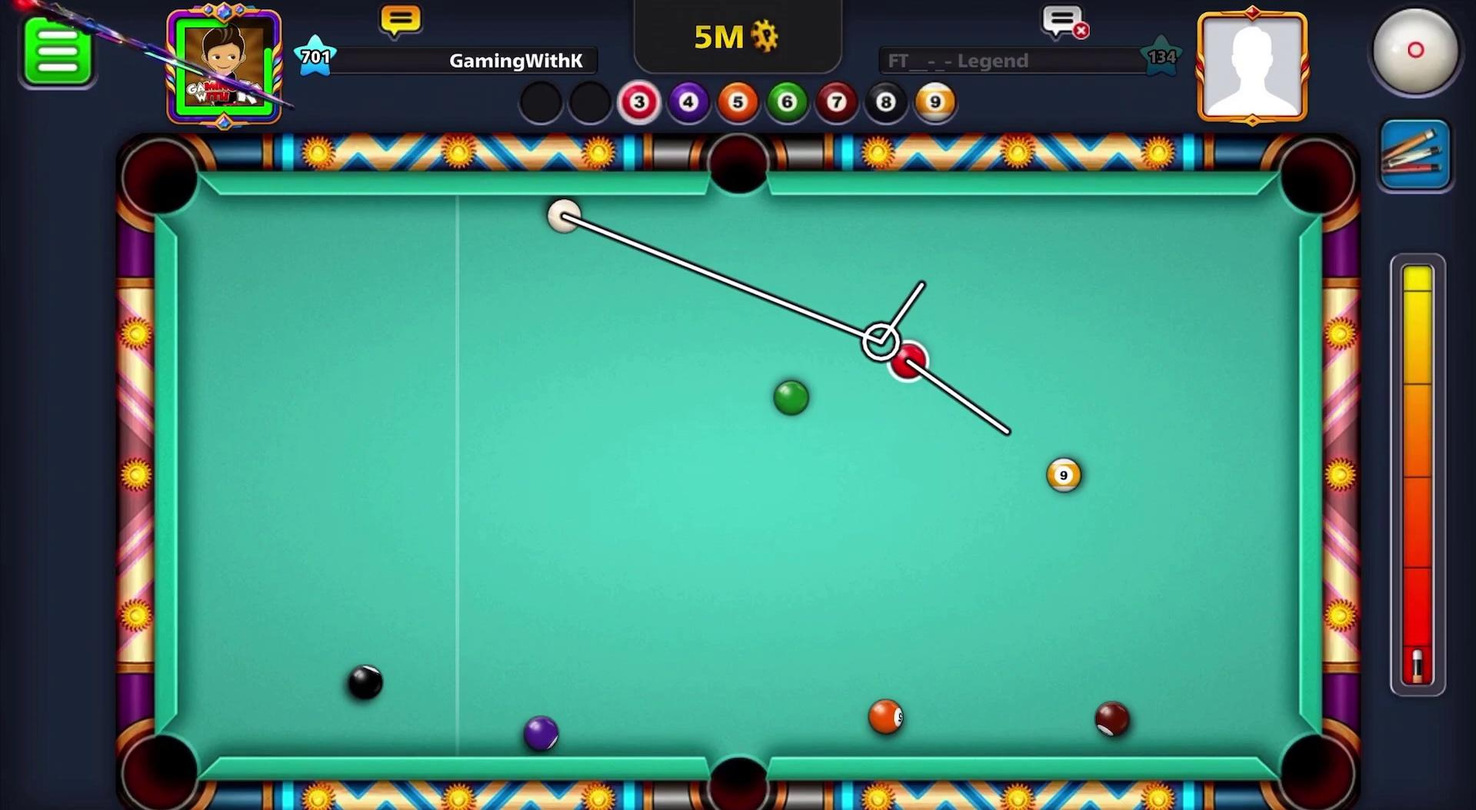Ball: (1041, 448, 1088, 500), (768, 373, 815, 420), (338, 662, 389, 703), (861, 695, 909, 736), (517, 714, 564, 755), (1091, 699, 1134, 738)
Force: (1386, 249, 1453, 699)
Guideline: (559, 205, 1020, 445)
Hole: (108, 128, 214, 231), (109, 712, 220, 809), (1262, 713, 1365, 809), (1269, 128, 1365, 228), (695, 124, 788, 212), (687, 742, 786, 809)
Play_Area: (175, 193, 1301, 760)
Spin: (1352, 0, 1475, 111)
White: (539, 194, 585, 237)
